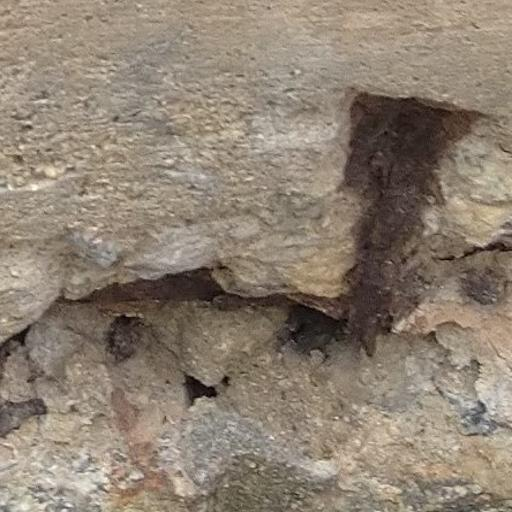spalling: (0, 76, 512, 511)
